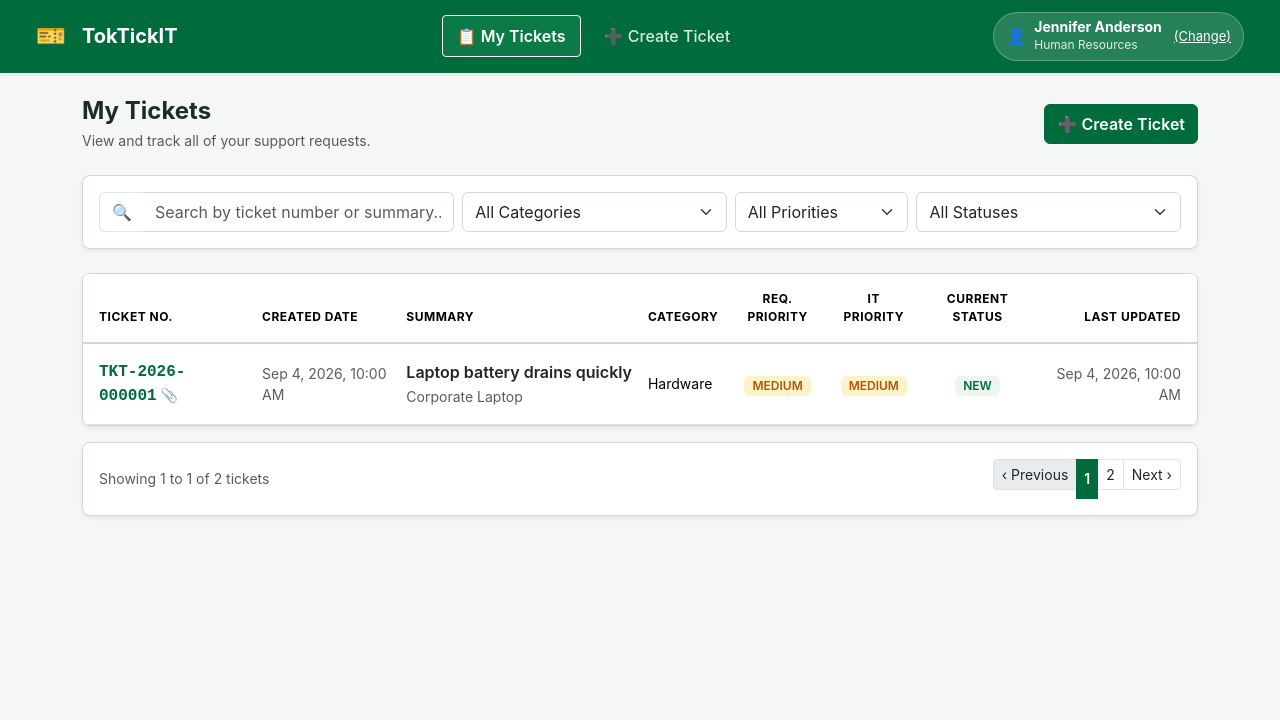
Test: My Tickets Screen (List Mode) › UI-04: pagination controls navigate pages and update table
Expected: the text "Laptop battery drains quickly" is shown, [406,360,632,384]
# Click next page button
What coordinates should you click on to do the following:
click the button with test id "pagination-next"
I would click on:
 (1152, 474)
Its box is [1123,459,1181,490].
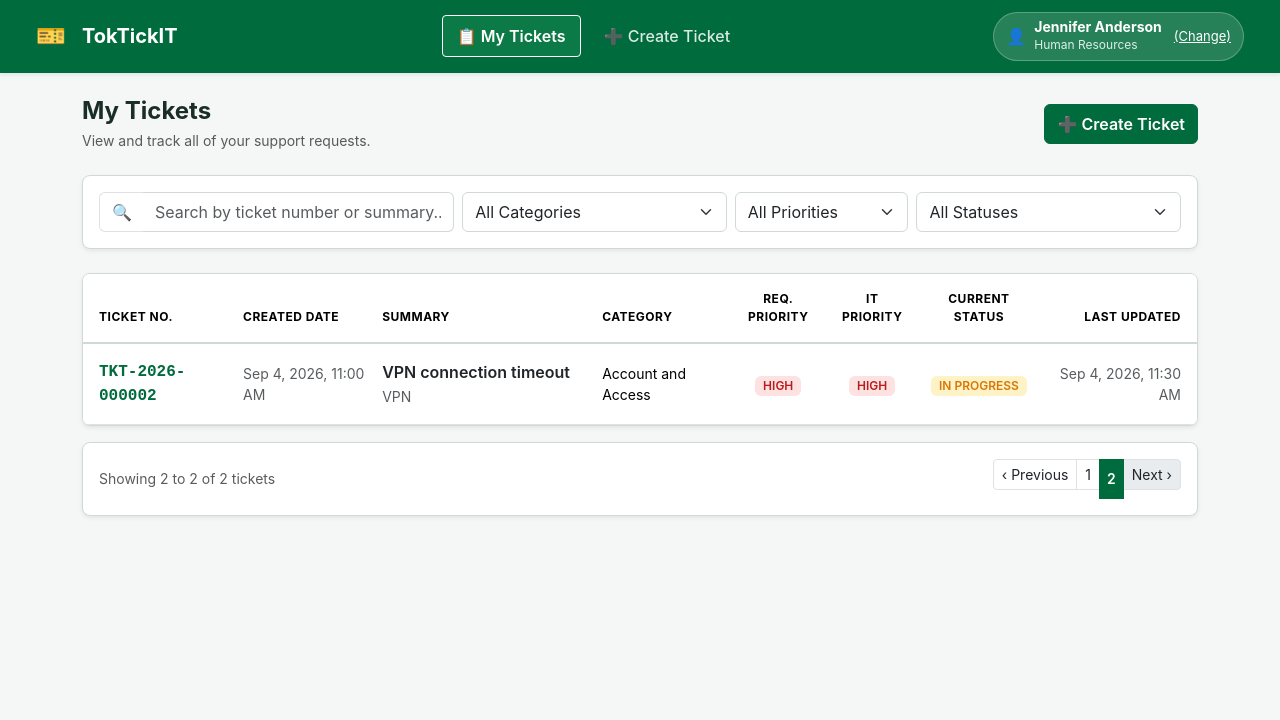
Result: the text "VPN connection timeout" is shown at [382,360,586,384]
